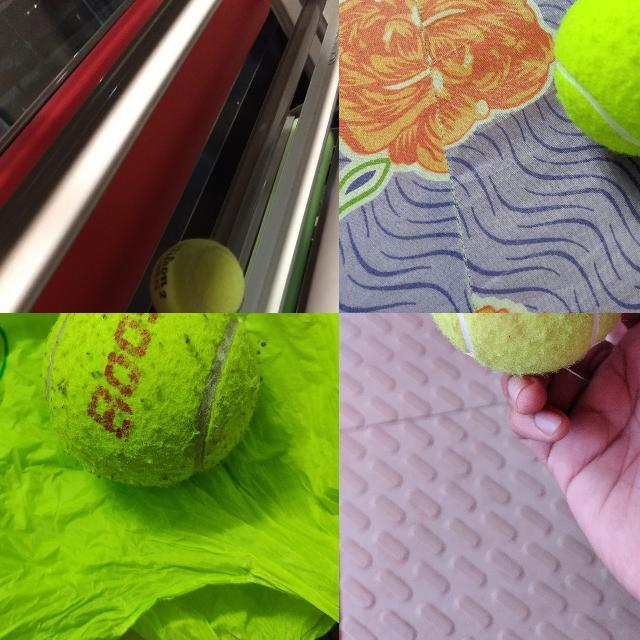tennis-ball: (40, 313, 263, 485), (551, 0, 639, 157), (420, 313, 632, 374), (148, 237, 246, 312)
